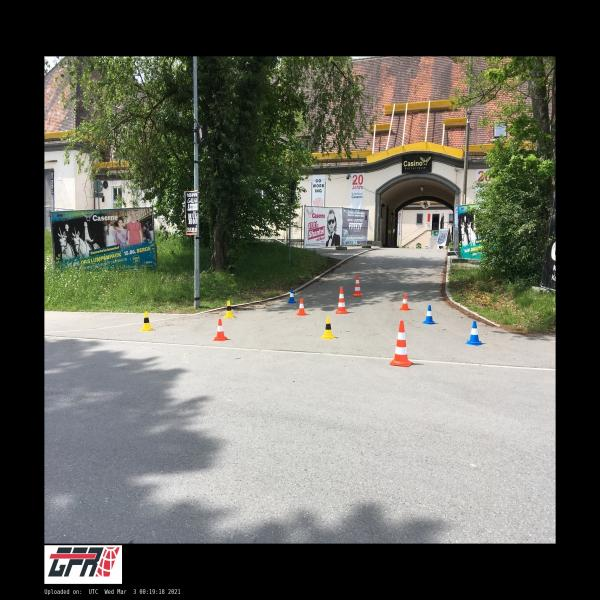blue_cone: (465, 321, 483, 346), (422, 305, 436, 324), (288, 288, 296, 304)
large_orange_cone: (390, 320, 413, 367), (336, 286, 348, 314), (352, 274, 363, 296)
orange_cone: (213, 319, 228, 341), (296, 298, 306, 316), (399, 294, 410, 310)
yellow_cone: (321, 316, 336, 340), (141, 312, 153, 331), (224, 301, 234, 318)
